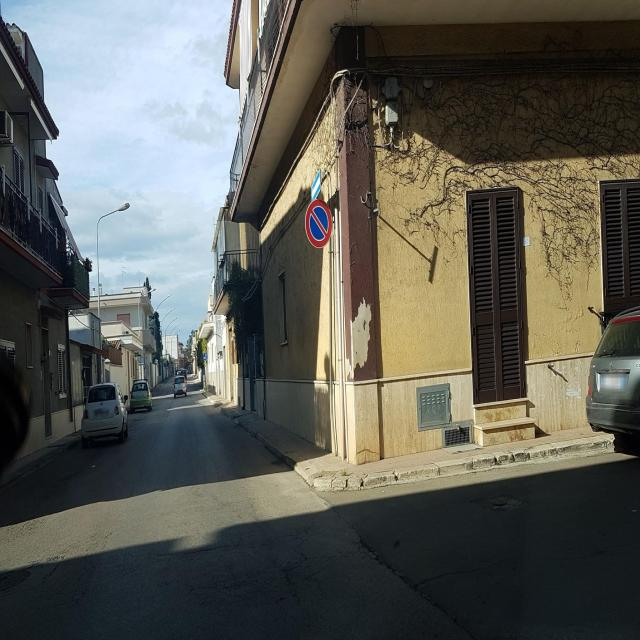forb_stopping: (305, 199, 333, 249)
